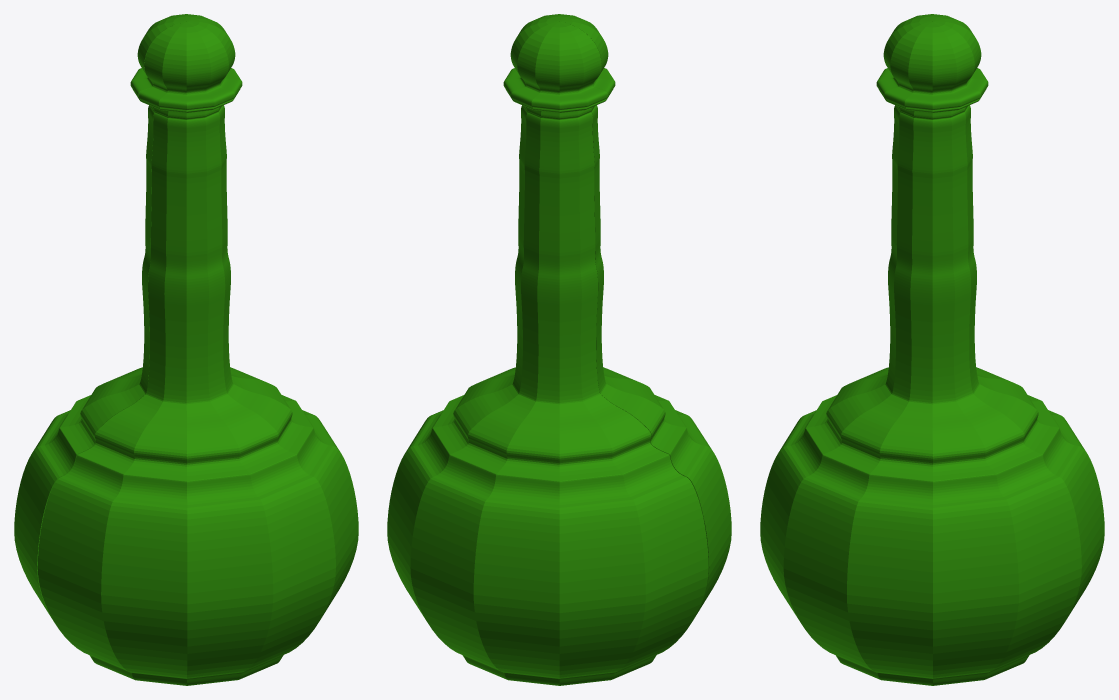
Rendered from bottle.glb.
3 views of the same model, side by side, from view 1: azimuth 30°, elevation 25°; view 2: azimuth 150°, elevation 25°; view 3: azimuth 270°, elevation 25° (orthographic).
Parts seen in each view (by area): view 1: BezierCurve; view 2: BezierCurve; view 3: BezierCurve.
Part boxes in pixels (x1,y1,x2,y2): BezierCurve: [14, 14, 358, 685]; BezierCurve: [387, 14, 731, 685]; BezierCurve: [760, 14, 1104, 685].
Bounding box in the file's own units: 6.42 × 12.95 × 6.42.
